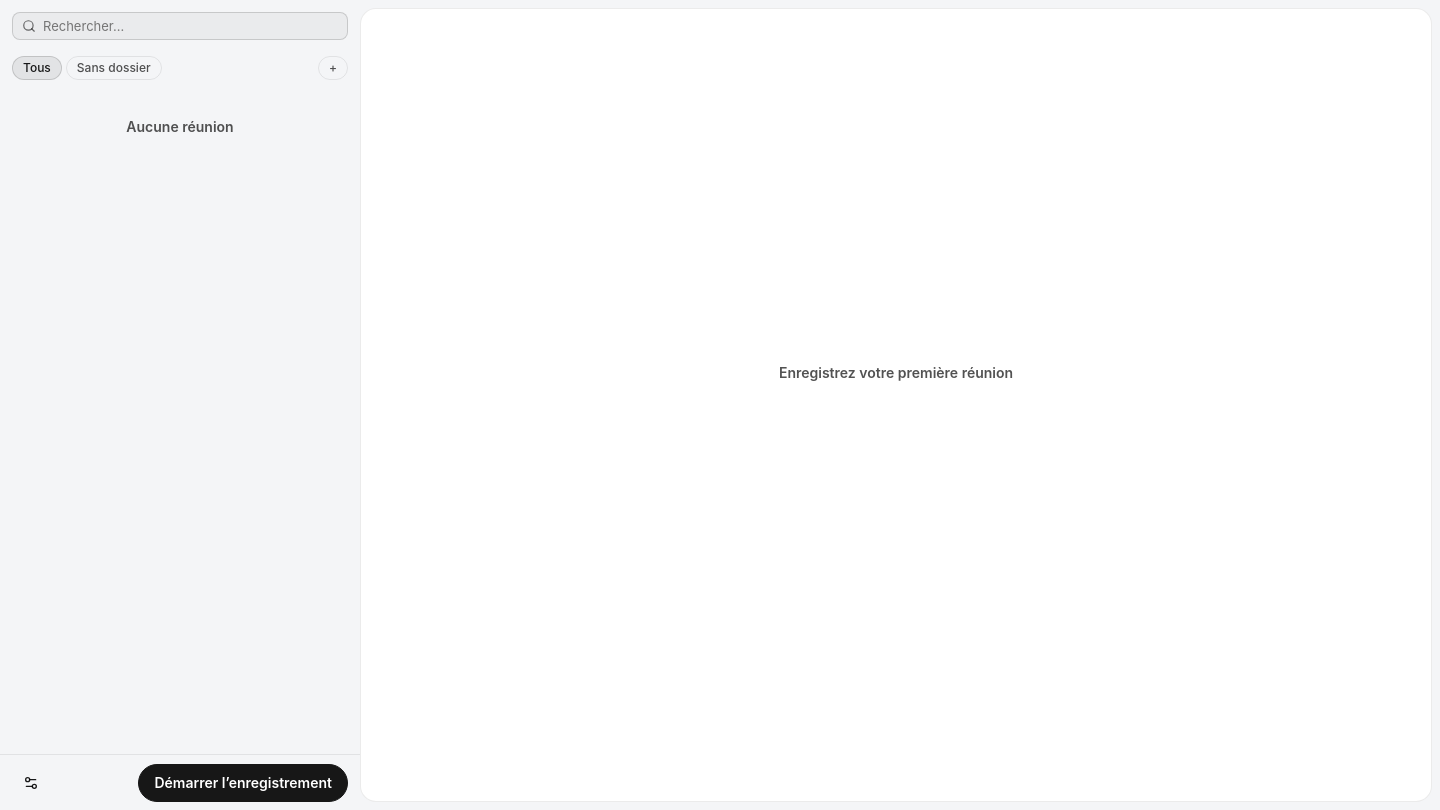
offers the appearance as three choices, on the stored one
This screenshot has width=1440, height=810.
Click the button named "Paramètres".
click(31, 782)  # box [12,764,50,802]
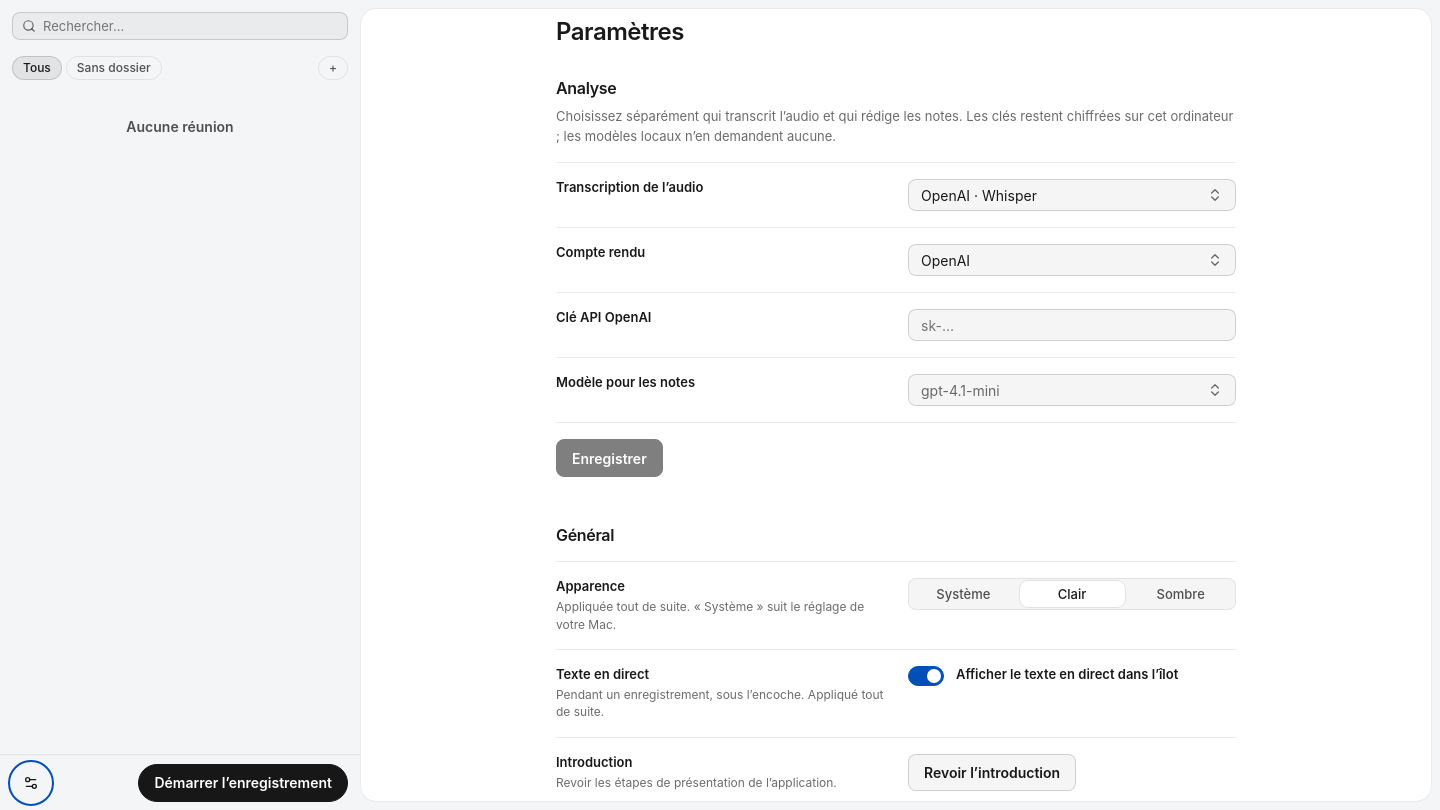
Expected: the radio buttons read "Système", "Clair", "Sombre", in this order, [911,581,1016,607]; [1020,581,1124,607]; [1128,581,1233,607]
Expected: the radio button labelled "Clair" is checked, [1020,581,1124,607]
Expected: the radio button labelled "Sombre" is not checked, [1128,581,1233,607]
